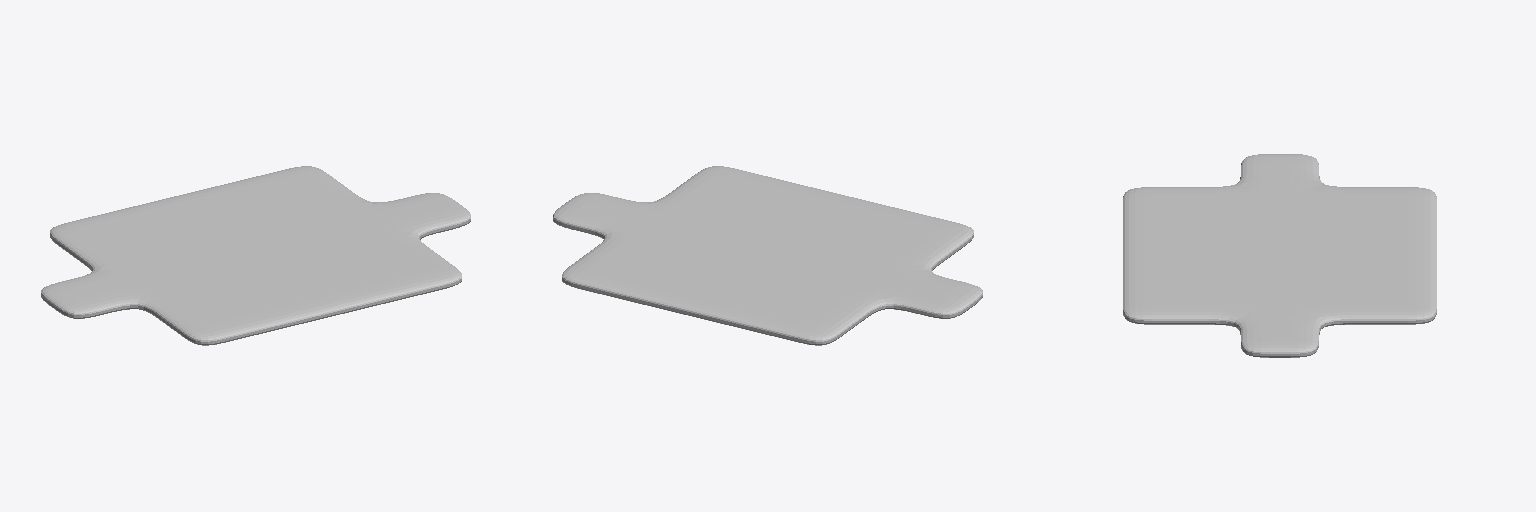
File: GoldenPuzzle-14-OMOM.obj
3 renders of one model, left to right at view 1: azimuth 30°, elevation 25°; view 2: azimuth 150°, elevation 25°; view 3: azimuth 270°, elevation 25°, orthographic.
Parts seen in each view (by area): view 1: Puzzle.014; view 2: Puzzle.014; view 3: Puzzle.014.
Part boxes in pixels (x1,y1,x2,y2): Puzzle.014: (41, 166, 470, 345); Puzzle.014: (553, 166, 982, 345); Puzzle.014: (1123, 154, 1436, 357).
Size of the model in its own units: 0.375 by 0.0092 by 0.251.